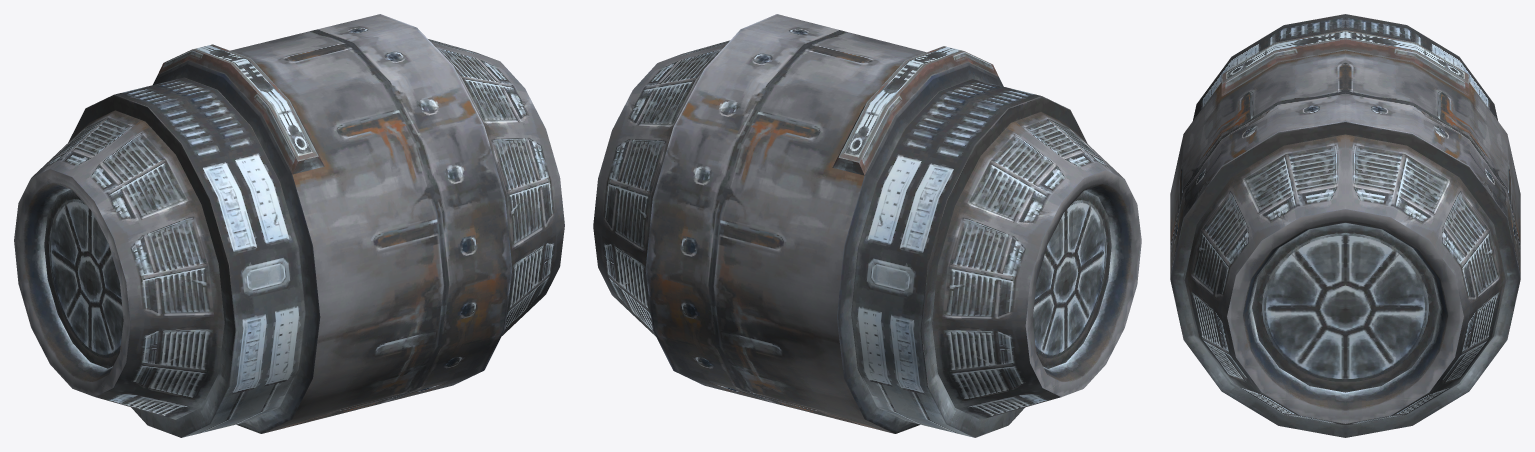
Rendered from hth_item_junk_01.glb.
The picture shows the model from 3 angles, left to right: view 1: azimuth 30°, elevation 25°; view 2: azimuth 150°, elevation 25°; view 3: azimuth 270°, elevation 25°; orthographic projection. The views are drawn at different scales.
Parts seen in each view (by area): view 1: hth_item_junk_01; view 2: hth_item_junk_01; view 3: hth_item_junk_01.
Boxes of the visible parts, x1,y1,x2,y2 form: hth_item_junk_01: (14, 14, 564, 437); hth_item_junk_01: (593, 14, 1141, 437); hth_item_junk_01: (1170, 14, 1520, 437).
Size of the model in its own units: 0.33 by 0.2618 by 0.2549.
Materials: 1 (1 with a texture image).
